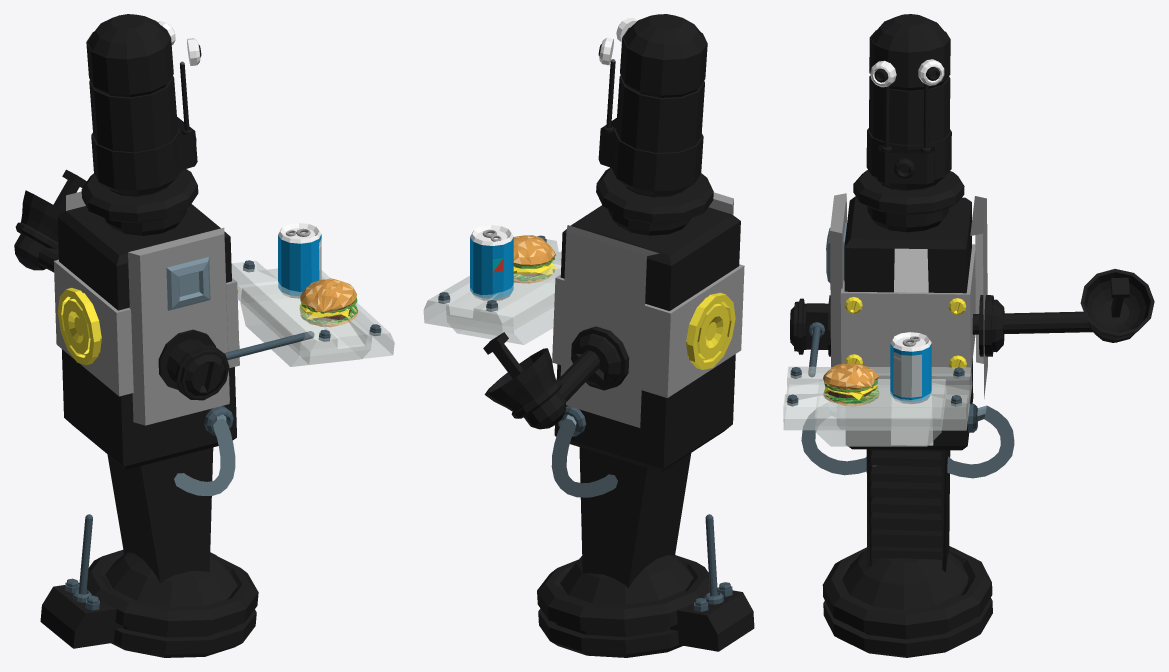
The model's file is scene_lepnFVNzq0.glb.
3 views of the same model, side by side, from view 1: azimuth 30°, elevation 25°; view 2: azimuth 150°, elevation 25°; view 3: azimuth 270°, elevation 25° (orthographic). The views are drawn at different scales.
Visible parts, largest first — view 1: group2082042796, group420411442, group28084402, group873198454, group2113262627, group1438440974, group533417825; view 2: group2082042796, group420411442, group28084402, group873198454, group2113262627, group1438440974, group533417825; view 3: group2082042796, group420411442, group873198454, group28084402, group2113262627, group1438440974, group533417825.
Boxes of the visible parts, x1=… form: group2082042796: x1=53, y1=14, x2=314, y2=495; group420411442: x1=40, y1=514, x2=258, y2=657; group28084402: x1=107, y1=447, x2=213, y2=583; group873198454: x1=231, y1=260, x2=394, y2=366; group2113262627: x1=14, y1=169, x2=86, y2=272; group1438440974: x1=278, y1=223, x2=321, y2=298; group533417825: x1=299, y1=278, x2=358, y2=327; group2082042796: x1=551, y1=14, x2=744, y2=497; group420411442: x1=537, y1=514, x2=754, y2=657; group28084402: x1=579, y1=447, x2=691, y2=605; group873198454: x1=423, y1=235, x2=561, y2=344; group2113262627: x1=483, y1=332, x2=600, y2=429; group1438440974: x1=470, y1=225, x2=513, y2=300; group533417825: x1=513, y1=235, x2=556, y2=283; group2082042796: x1=790, y1=14, x2=1014, y2=478; group420411442: x1=822, y1=546, x2=992, y2=657; group873198454: x1=783, y1=366, x2=972, y2=446; group28084402: x1=866, y1=449, x2=950, y2=572; group2113262627: x1=972, y1=269, x2=1154, y2=342; group1438440974: x1=890, y1=332, x2=931, y2=404; group533417825: x1=823, y1=363, x2=879, y2=406.
Bounding box in the file's own units: 1.48 × 3.11 × 1.77.
